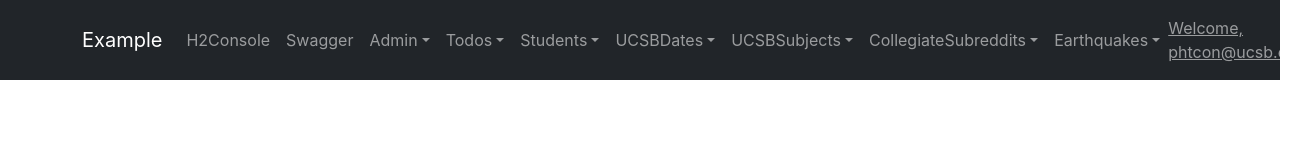
AppNavbar tests › renders the Students menu correctly for an admin
Expected: the element with test id "appnavbar-students-dropdown" is shown, [520, 30, 587, 50]
Click the button "Students". click: (560, 40)
box: [512, 20, 607, 60]
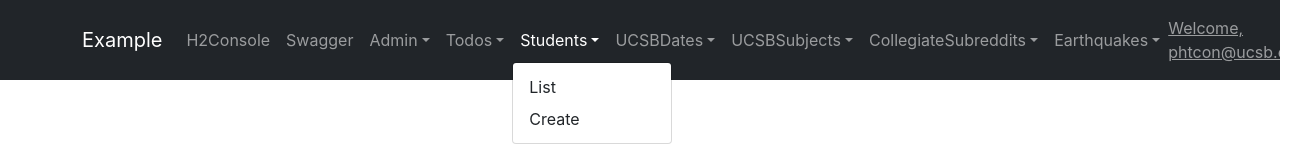
Expected: the link with test id "appnavbar-students-create" is shown, [529, 109, 580, 129]
